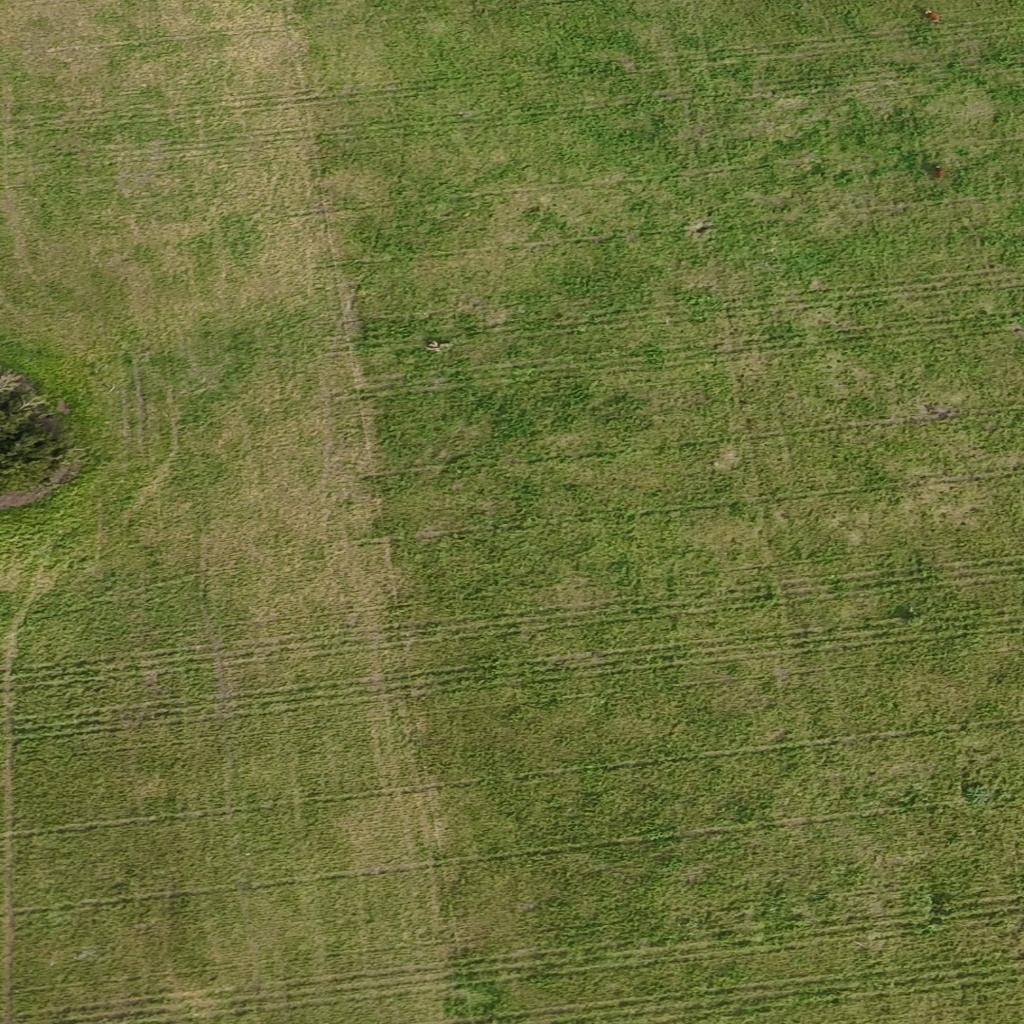cow: (920, 9, 943, 26), (926, 163, 944, 181)
